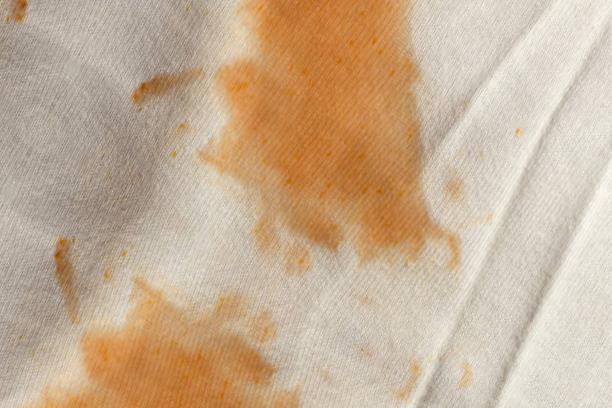stain: (200, 1, 469, 281), (27, 276, 306, 407), (44, 235, 90, 330), (131, 62, 204, 108), (395, 356, 428, 403), (165, 117, 189, 163), (100, 245, 128, 284), (454, 361, 479, 396), (3, 1, 32, 30), (508, 123, 529, 149), (479, 205, 498, 232)
